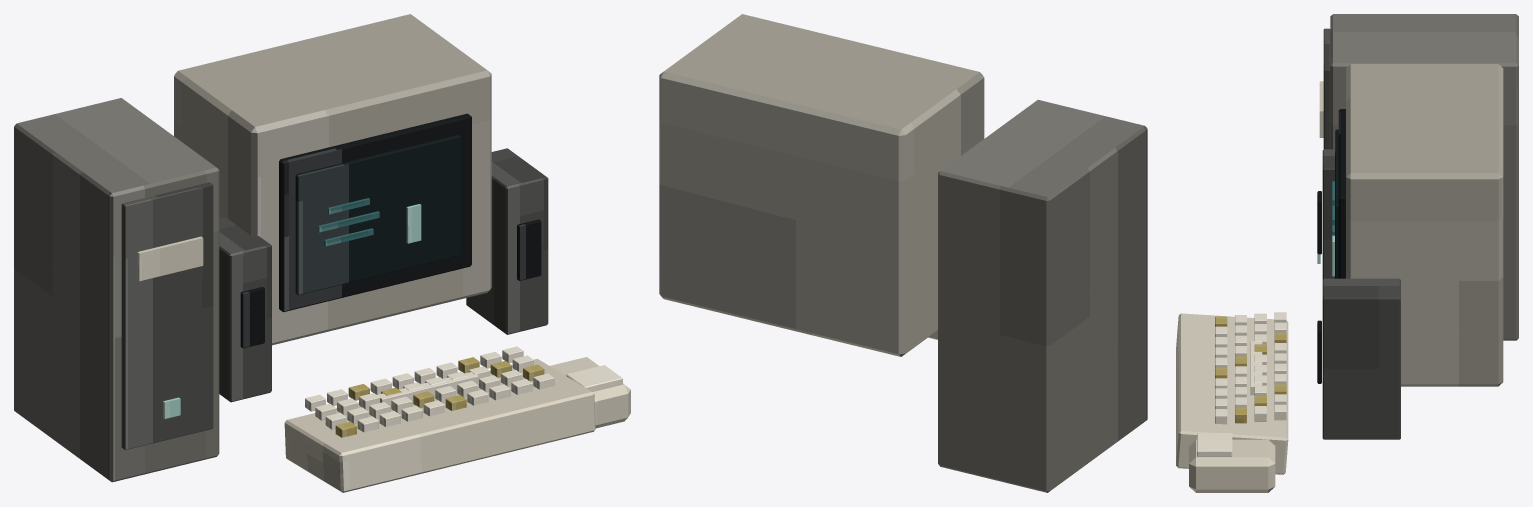
File: retro_computer_tower_ivory.glb
The picture shows the model from 3 angles, left to right: view 1: azimuth 30°, elevation 25°; view 2: azimuth 150°, elevation 25°; view 3: azimuth 270°, elevation 25°; orthographic projection. The views are drawn at different scales.
Visible parts, largest first — view 1: Tower, MonitorShell, TowerFace, MonitorGlow, KeyboardBody, MonitorFace, Speaker_R, Speaker_L, DriveBay, Mouse, SpeakerCone_L, SpeakerCone_R (+2 smaller); view 2: MonitorShell, Tower; view 3: MonitorShell, Tower, Speaker_R, KeyboardBody, Mouse, Speaker_L, MonitorFace, TowerFace, MouseButton, MonitorGlow, SpaceBar.
Part boxes in pixels (box(x1,y1,x2,y2)): Tower: box(14, 98, 219, 482); MonitorShell: box(174, 14, 491, 345); TowerFace: box(121, 182, 213, 449); MonitorGlow: box(295, 135, 460, 295); KeyboardBody: box(284, 358, 595, 492); MonitorFace: box(279, 113, 471, 312); Speaker_R: box(466, 148, 548, 334); Speaker_L: box(219, 217, 271, 402); DriveBay: box(137, 236, 203, 281); Mouse: box(550, 357, 630, 428); SpeakerCone_L: box(240, 287, 264, 348); SpeakerCone_R: box(517, 219, 541, 280); MonitorShell: box(659, 14, 984, 356); Tower: box(938, 100, 1147, 492); MonitorShell: box(1346, 64, 1503, 386); Tower: box(1330, 14, 1518, 340); Speaker_R: box(1322, 278, 1400, 439); KeyboardBody: box(1176, 313, 1288, 474); Mouse: box(1189, 439, 1275, 492); Speaker_L: box(1322, 149, 1334, 279); MonitorFace: box(1338, 109, 1345, 278); TowerFace: box(1323, 28, 1330, 149); MouseButton: box(1197, 433, 1232, 456); MonitorGlow: box(1335, 129, 1338, 278); SpaceBar: box(1250, 341, 1262, 395).
Bounding box in the file's own units: 1.27 × 0.84 × 0.8729.
Materials: 1 (1 with a texture image).
